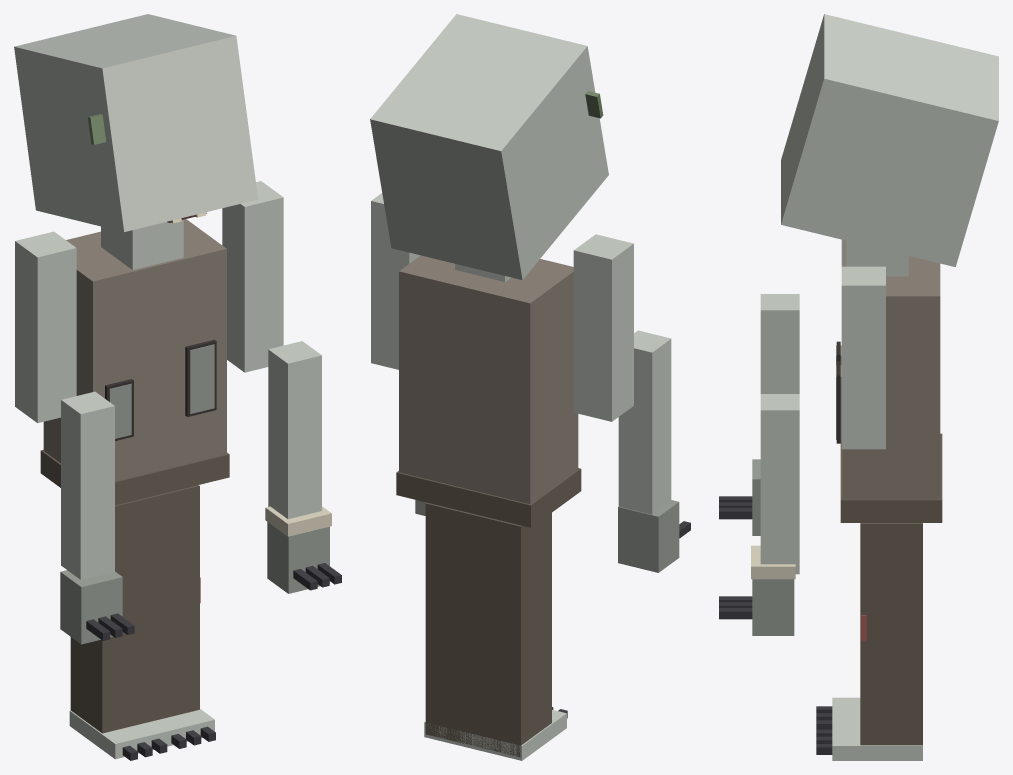
The model's file is zombie-climber.fbx.
3 renders of one model, left to right at view 1: azimuth 30°, elevation 25°; view 2: azimuth 150°, elevation 25°; view 3: azimuth 270°, elevation 25°, orthographic. The views are drawn at different scales.
Visible parts, largest first — view 1: ZombieClimber; view 2: ZombieClimber; view 3: ZombieClimber.
Boxes of the visible parts, x1,y1,x2,y2 form: ZombieClimber: (14, 14, 341, 760); ZombieClimber: (370, 14, 690, 760); ZombieClimber: (719, 14, 998, 760).
Size of the model in its own units: 205 by 548 by 201.
